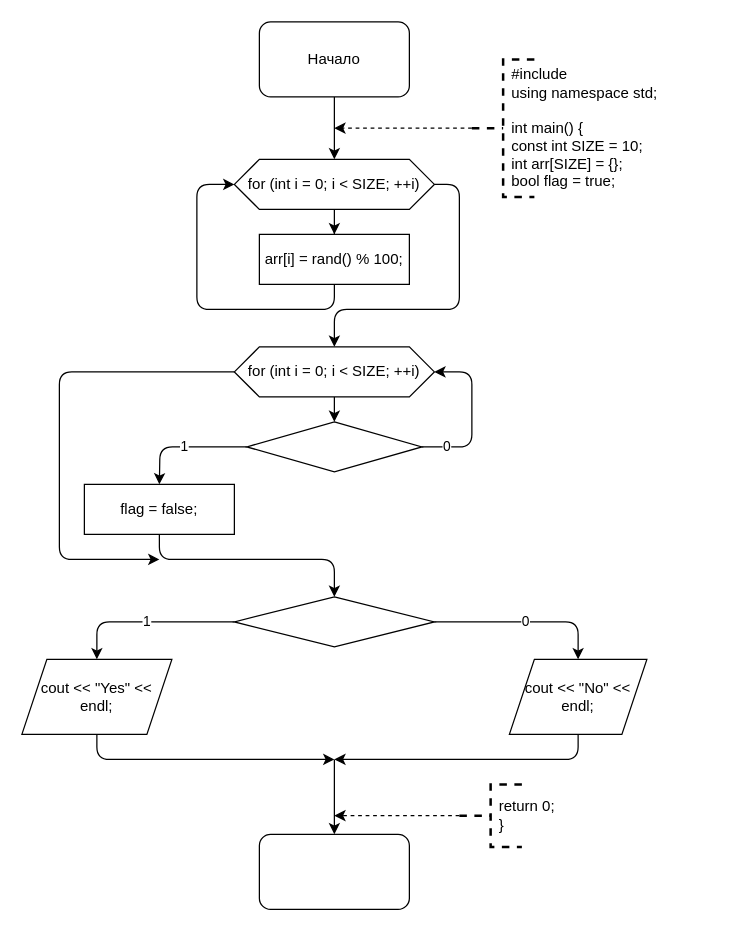
Some shapes in this 756 by 931 pixel diagram are drawn without their labels. Here are the shapes that lost their labels. From the top down, the centre of each, then its label:
At (x=334, y=446): "if (arr[i] < arr[i - 1])".
At (x=333, y=621): "if (flag)".
At (x=333, y=871): "Конец".
